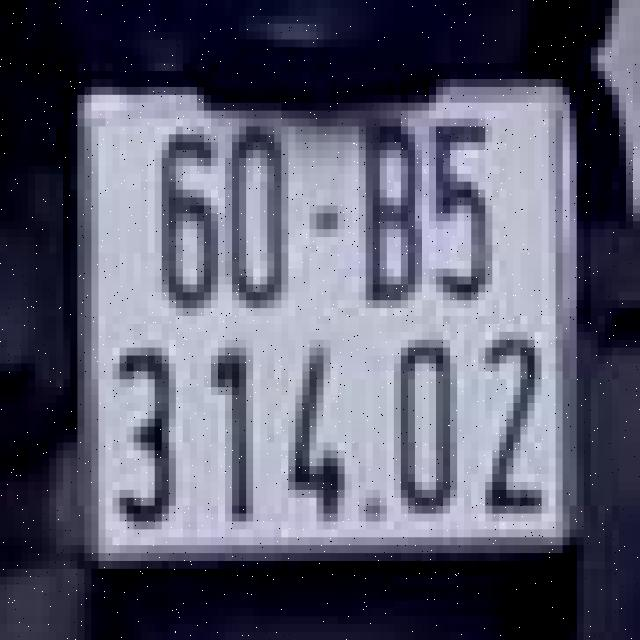0: (221, 107, 299, 320), (390, 324, 468, 529)
1: (200, 340, 271, 529)
2: (471, 320, 549, 533)
3: (109, 336, 186, 533)
4: (274, 332, 352, 529)
5: (425, 119, 503, 308)
6: (144, 119, 229, 316)
B: (355, 111, 426, 316)
